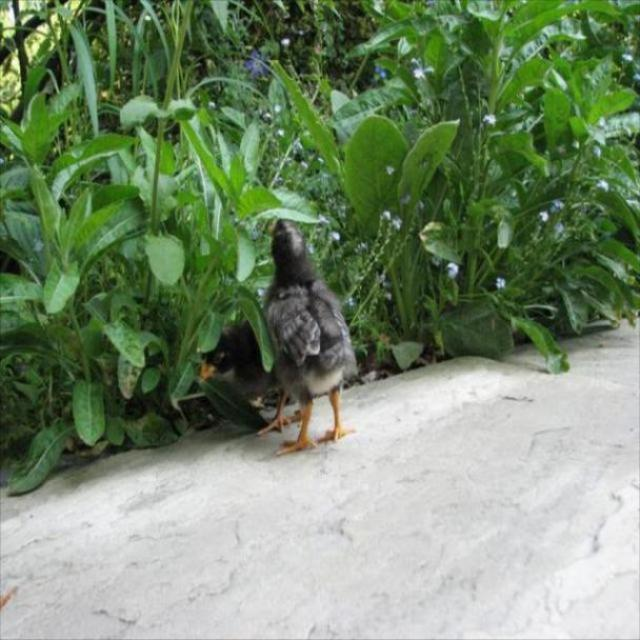Chicken: (265, 211, 358, 452)
